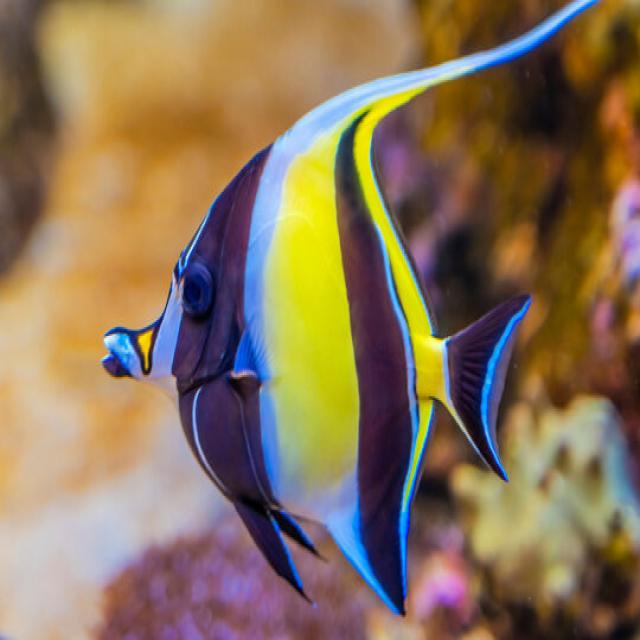MorishIdol: (98, 0, 601, 619)
